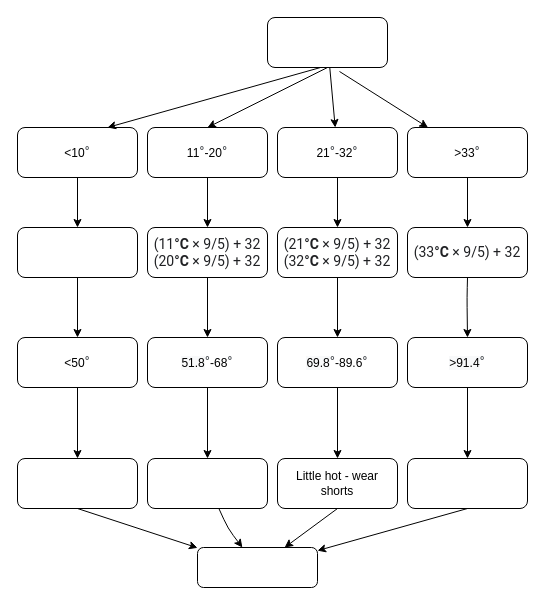
Some shapes in this 545 by 605 pixel diagram are drawn without their labels. Each missing label, with the centre of its shape:
(10 °C × 9/5) + 32: pixel 77 252
End: pixel 257 567
Enter temperature to convert from Celsius to Fahrenheit: pixel 327 42
Little cold - wear a jacket: pixel 207 483
Super hot! Turn on the AC and stay inside!: pixel 467 483
Way too cold! Wear a coat!: pixel 77 483
